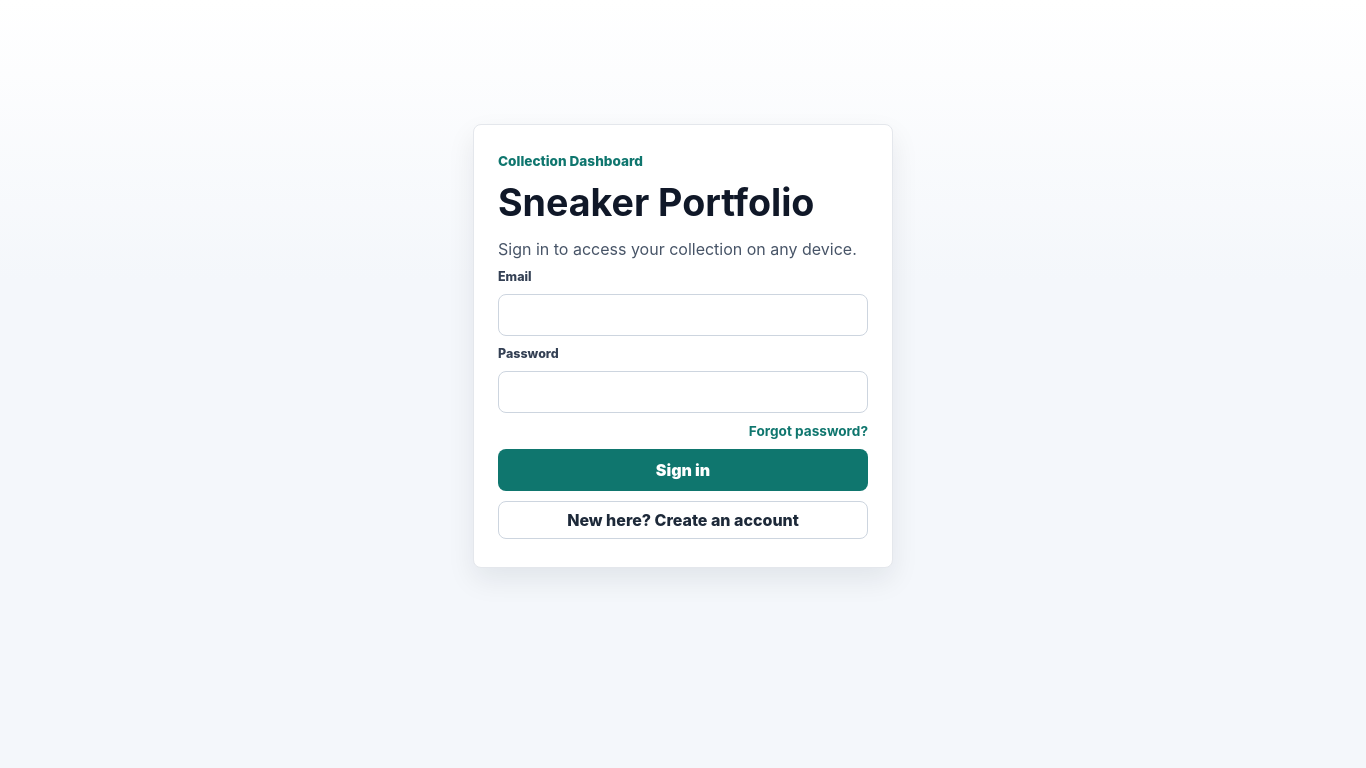
Scenario: user authentication › creates an account and asks the user to confirm their email
The image size is (1366, 768).
Click the button "New here? Create an account" at (683, 520), box [498,501,868,539]
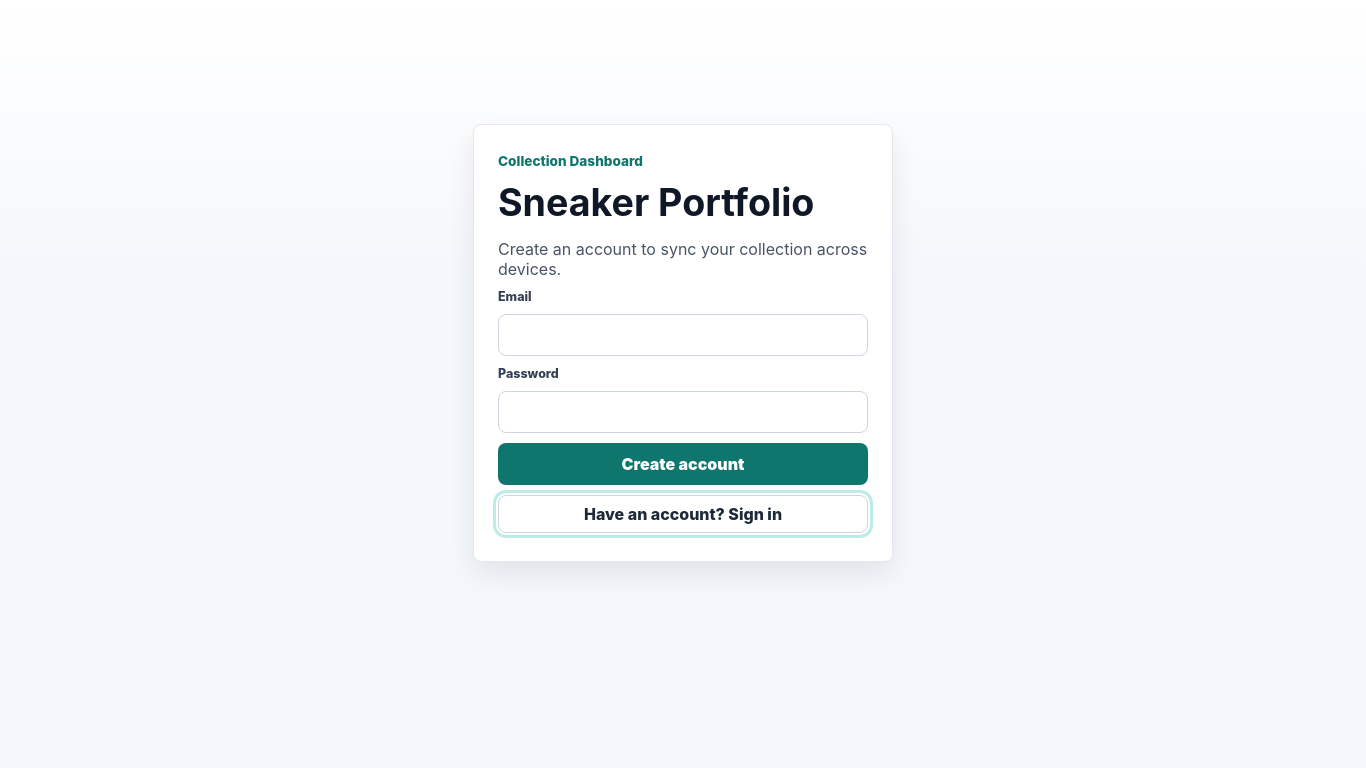
Type "collector@example.com" into the field labelled "Email" at (683, 335), box [498,314,868,356]
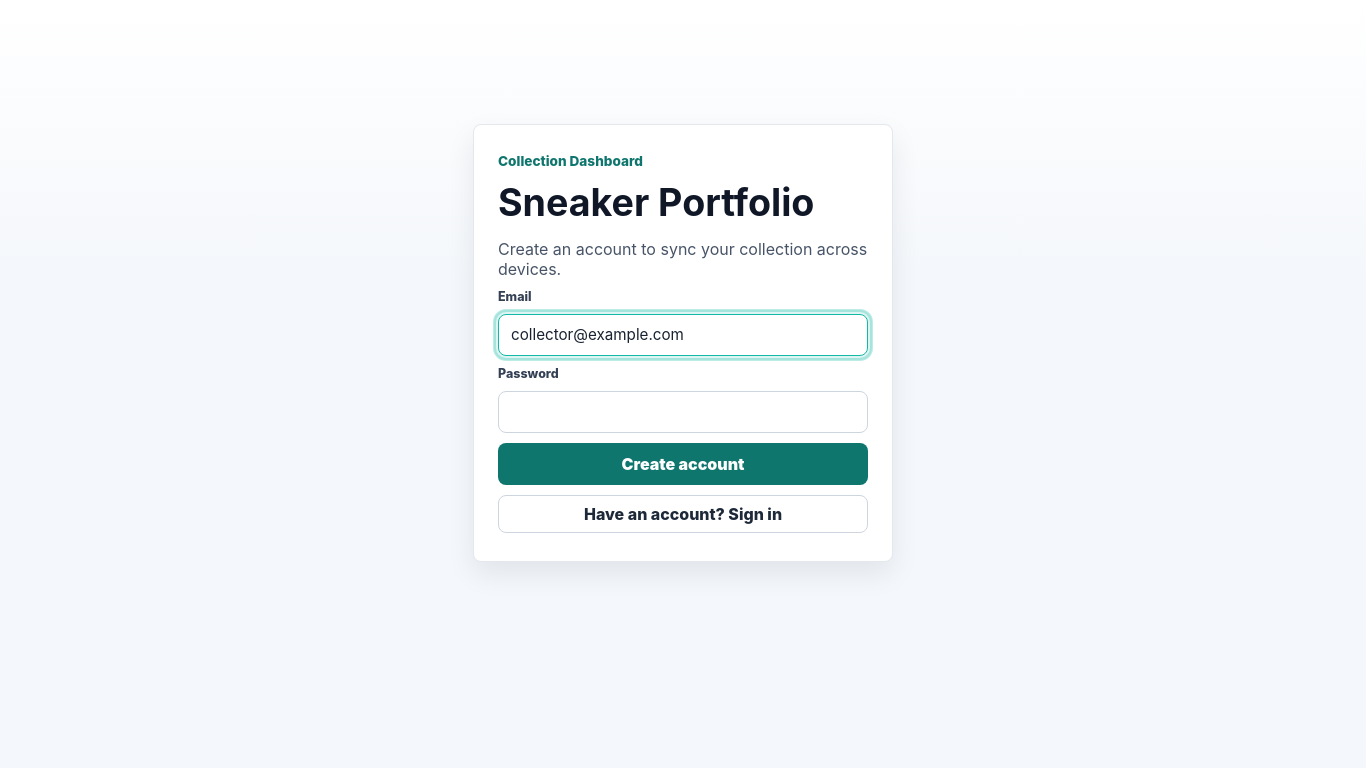
Type "Secret123!" into the password field labelled "Password" at (683, 412), box [498,391,868,433]
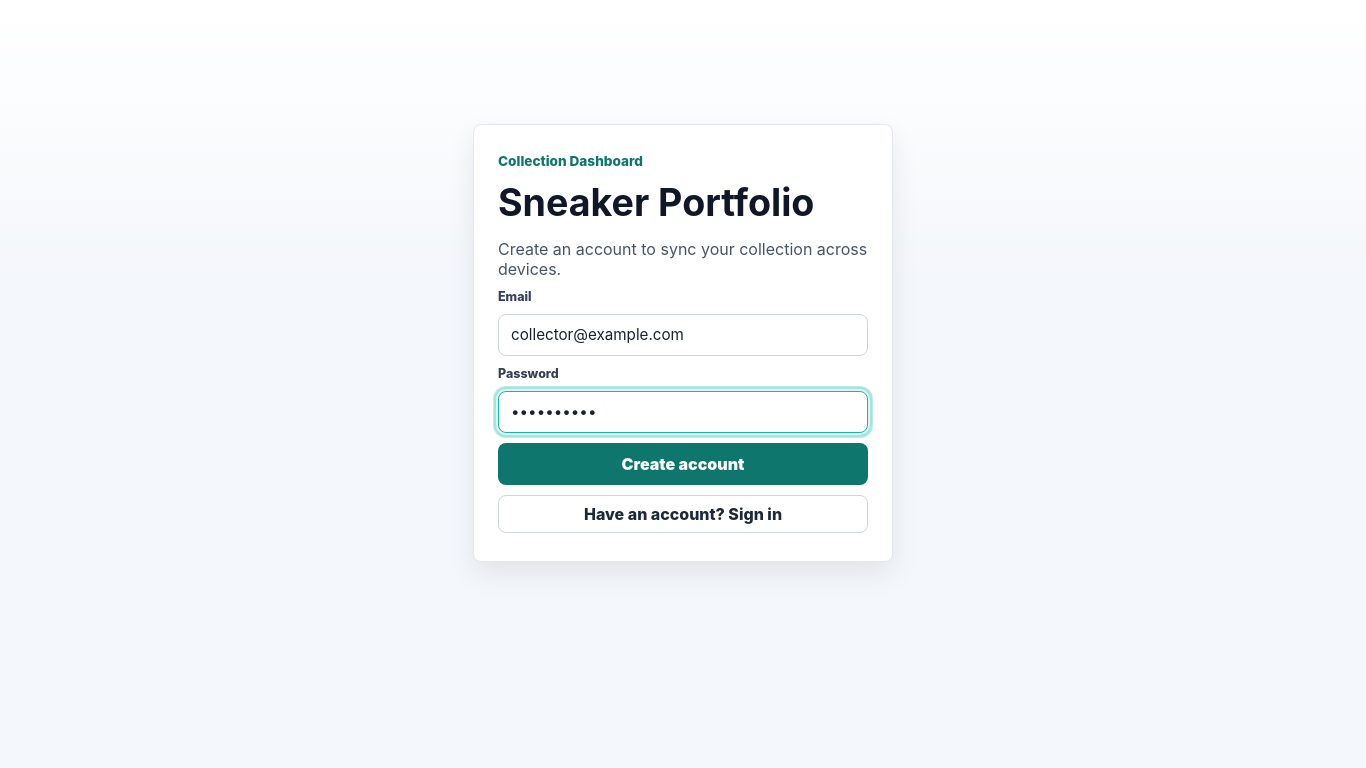
Click the button "Create account" at (683, 464), box [498,443,868,485]
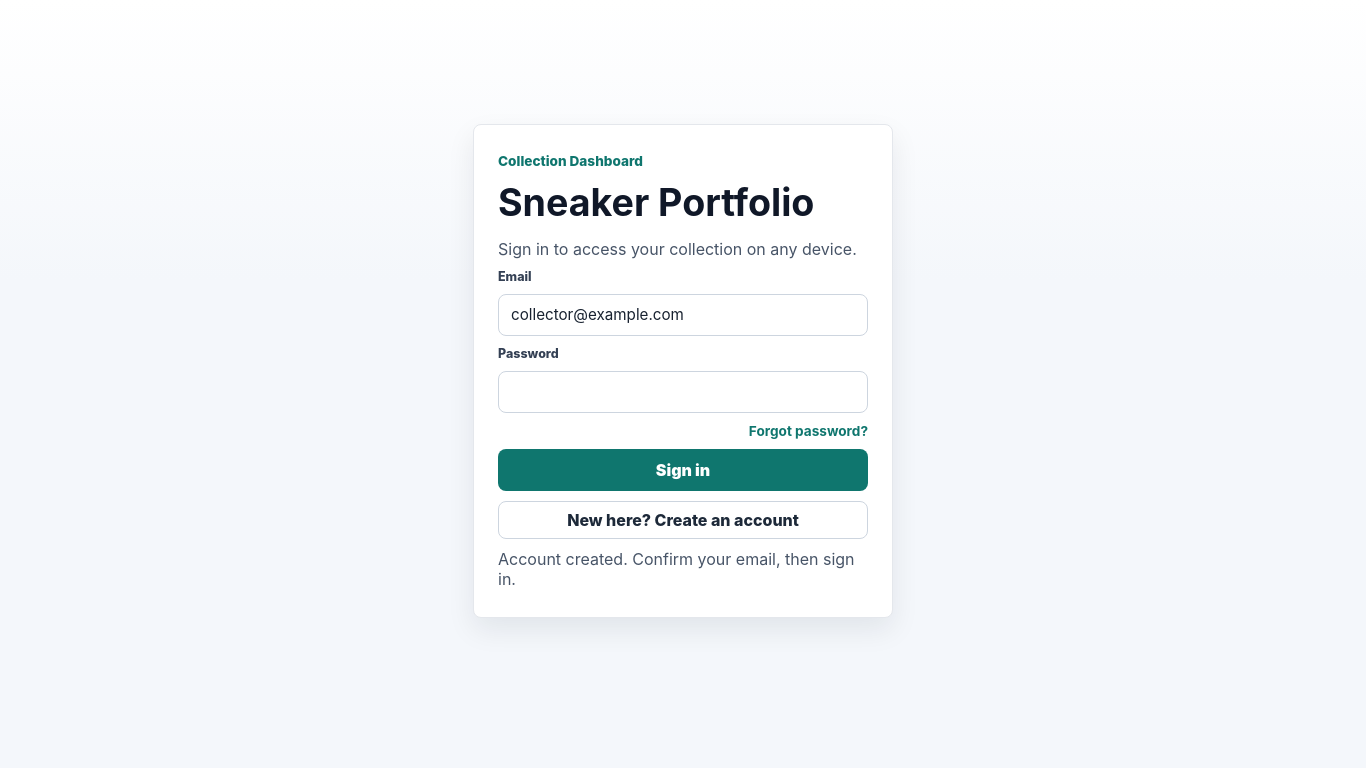
Expected: the message reads "Account created. Confirm your email, then sign in.", [498,549,855,589]
Expected: the password field labelled "Password" is empty, [498,371,868,413]
Expected: the button "Sign in" is shown, [498,449,868,491]
